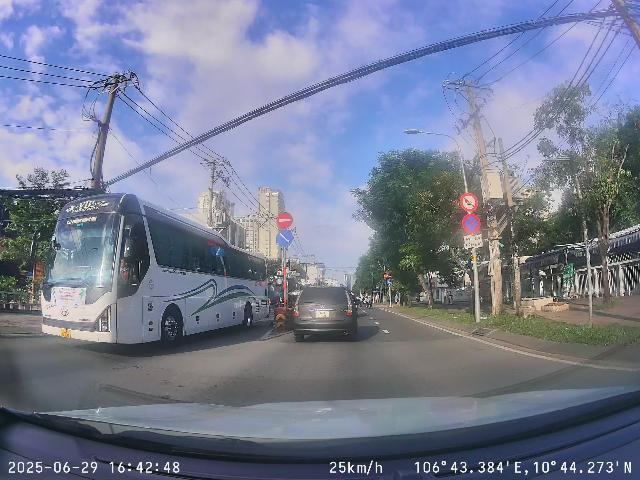102-cam-di-nguoc-chieu: (277, 212, 293, 229)
128-cam-su-dung-coi: (460, 192, 478, 212)
130-cam-dung-va-do-xe: (462, 213, 481, 233)
302a-huong-phai-di-vong-chuong-ngai-vat-1: (276, 229, 293, 247)
